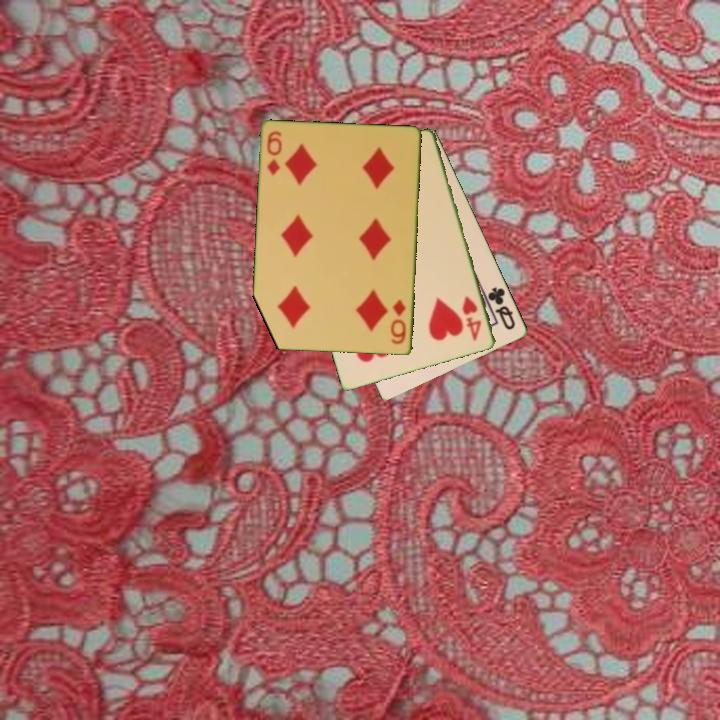4h: (459, 292, 485, 344)
6d: (387, 297, 409, 347), (264, 128, 285, 179)
Qc: (485, 283, 519, 333)
